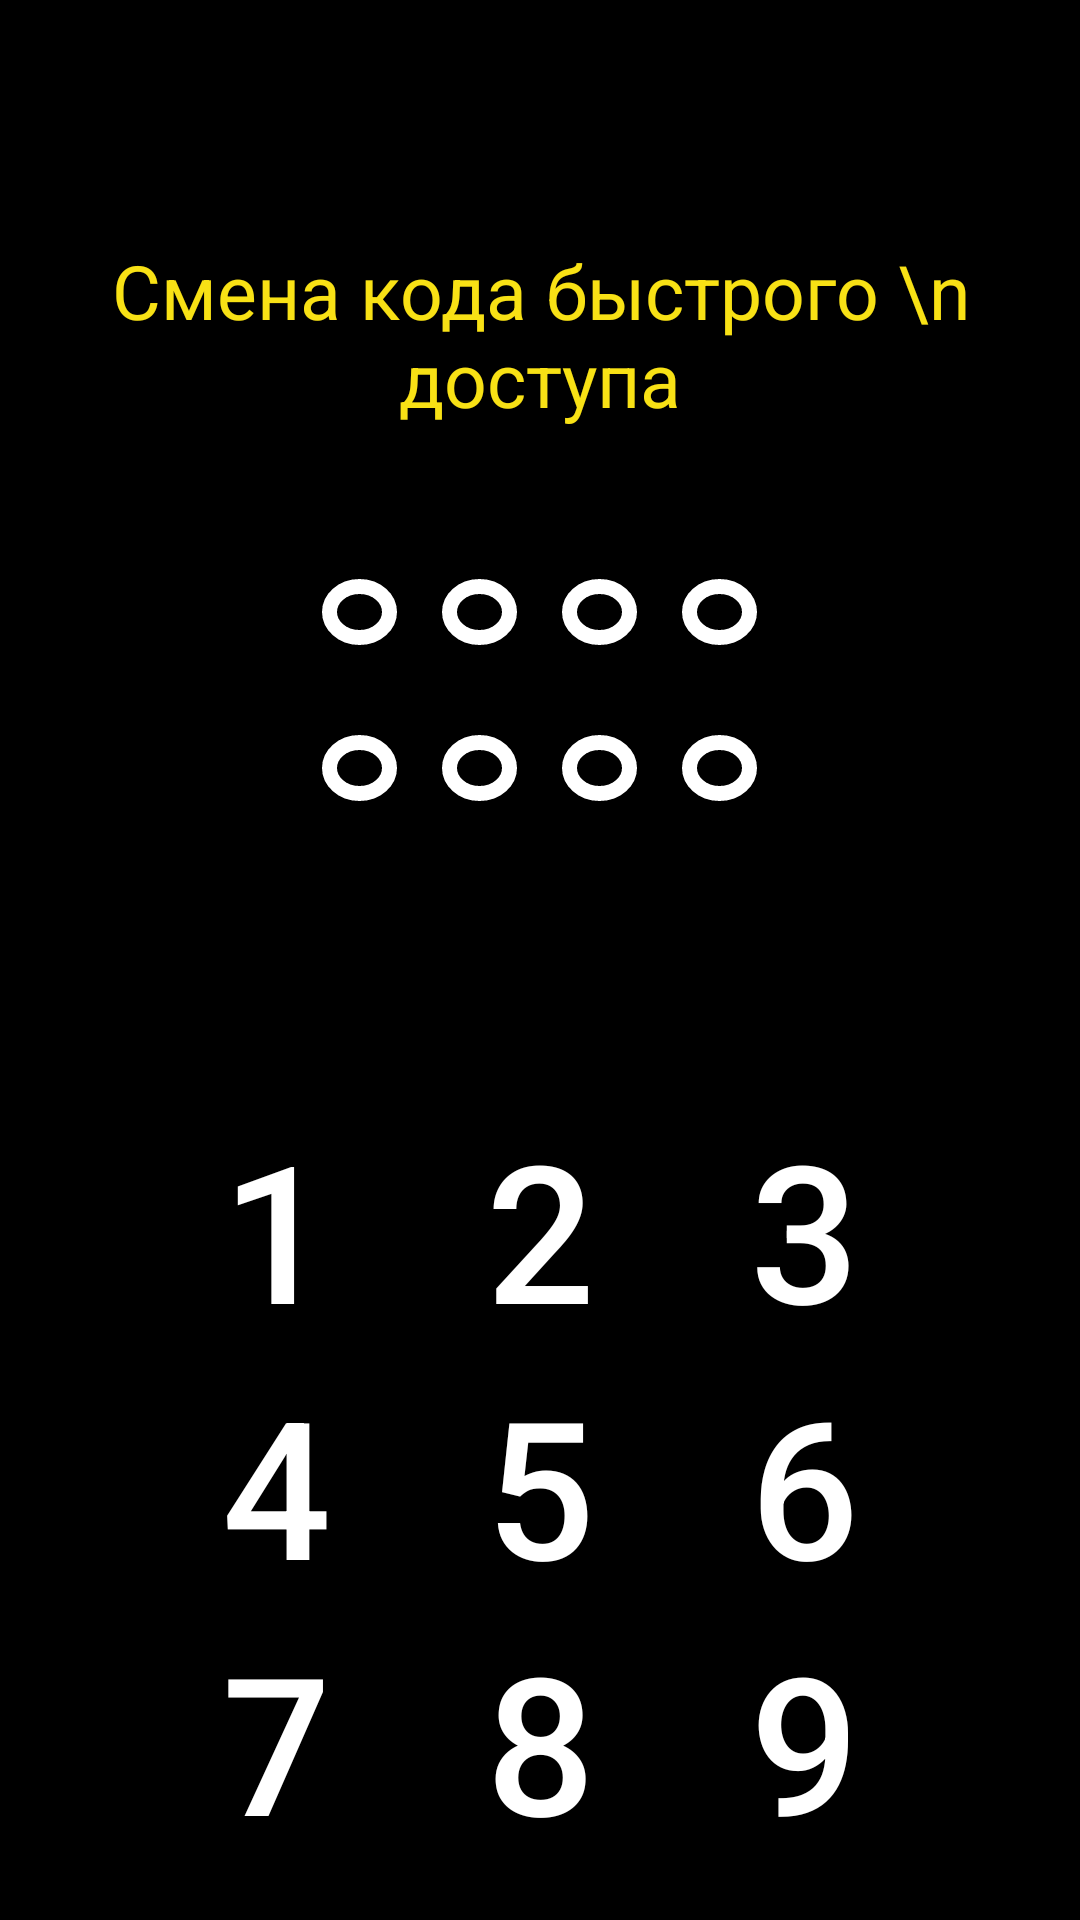

Icons on this 1080px×1920px Android screen, each with its box as [x1=x1, y1=y1, x2=x2, y2=y2]:
auth sircleoff: [x1=322, y1=579, x2=397, y2=645], [x1=442, y1=579, x2=517, y2=645], [x1=562, y1=579, x2=637, y2=645], [x1=682, y1=579, x2=757, y2=645], [x1=322, y1=735, x2=397, y2=801], [x1=442, y1=735, x2=517, y2=801], [x1=562, y1=735, x2=637, y2=801], [x1=682, y1=735, x2=757, y2=801]
